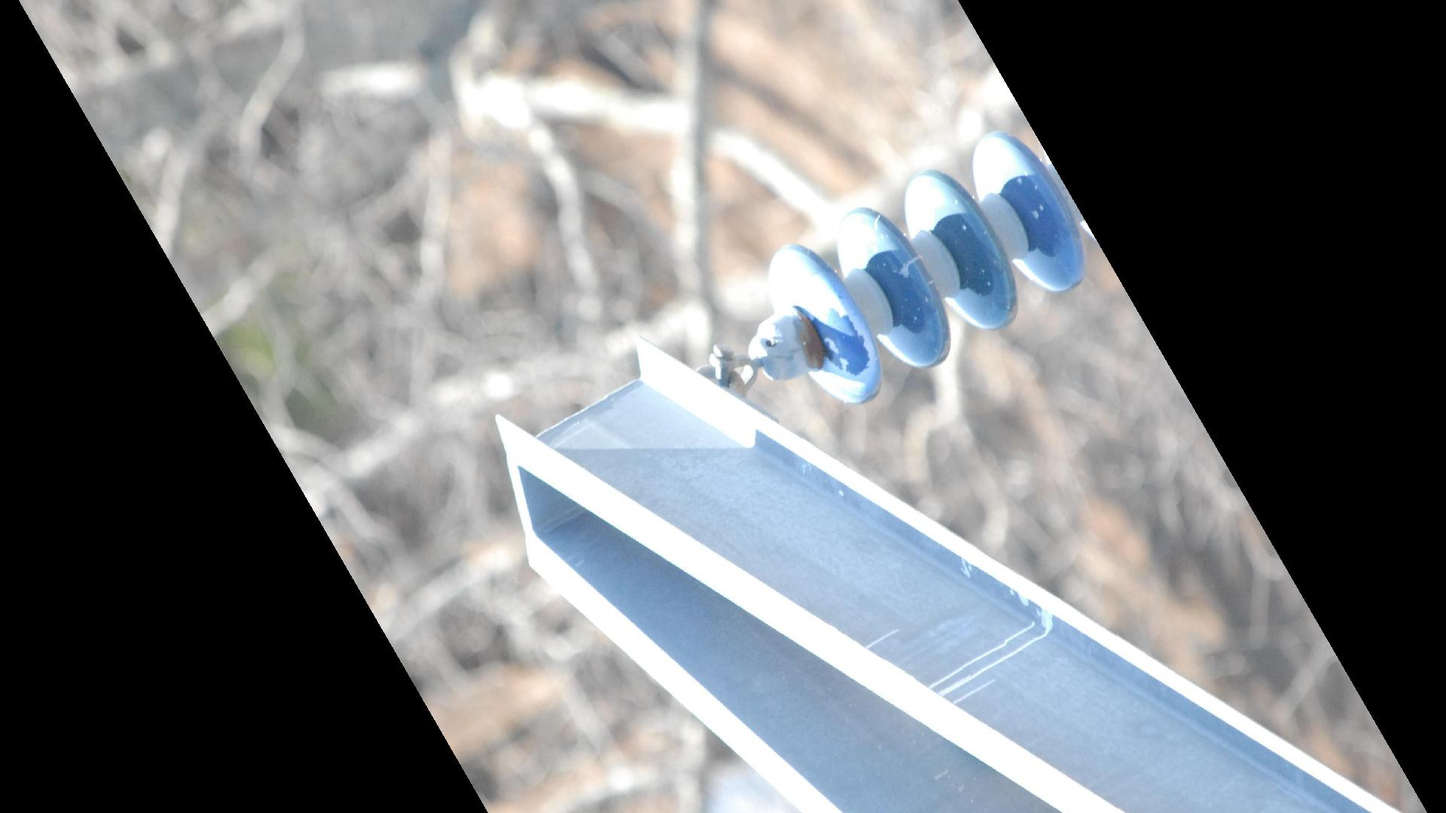insulator: (761, 125, 1091, 412)
insulator_flashover: (811, 306, 874, 379)
